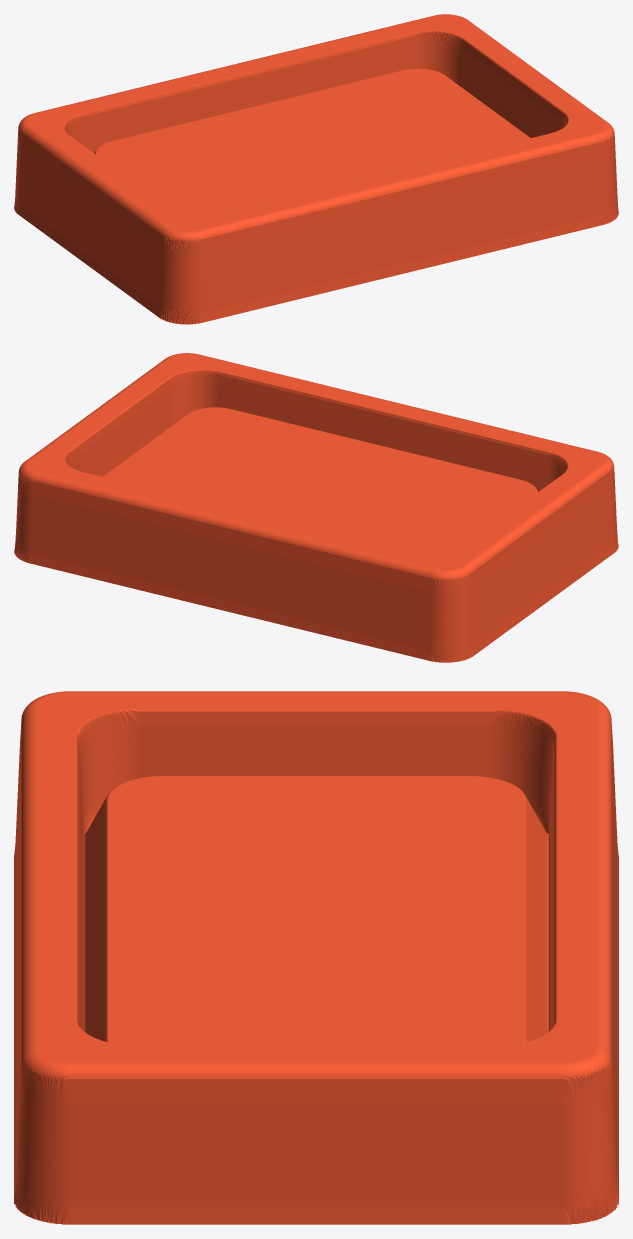
File: mold.glb
3 renders of one model, top to bottom at view 1: azimuth 30°, elevation 25°; view 2: azimuth 150°, elevation 25°; view 3: azimuth 270°, elevation 25°, orthographic. The views are drawn at different scales.
Visible parts, largest first — view 1: geometry_0; view 2: geometry_0; view 3: geometry_0.
Boxes of the visible parts, left/top/right/bottom form: geometry_0: left=14, top=14, right=618, bottom=324; geometry_0: left=14, top=353, right=618, bottom=662; geometry_0: left=14, top=691, right=618, bottom=1224.
Bounding box in the file's own units: 0.1473 × 0.0269 × 0.0968.
